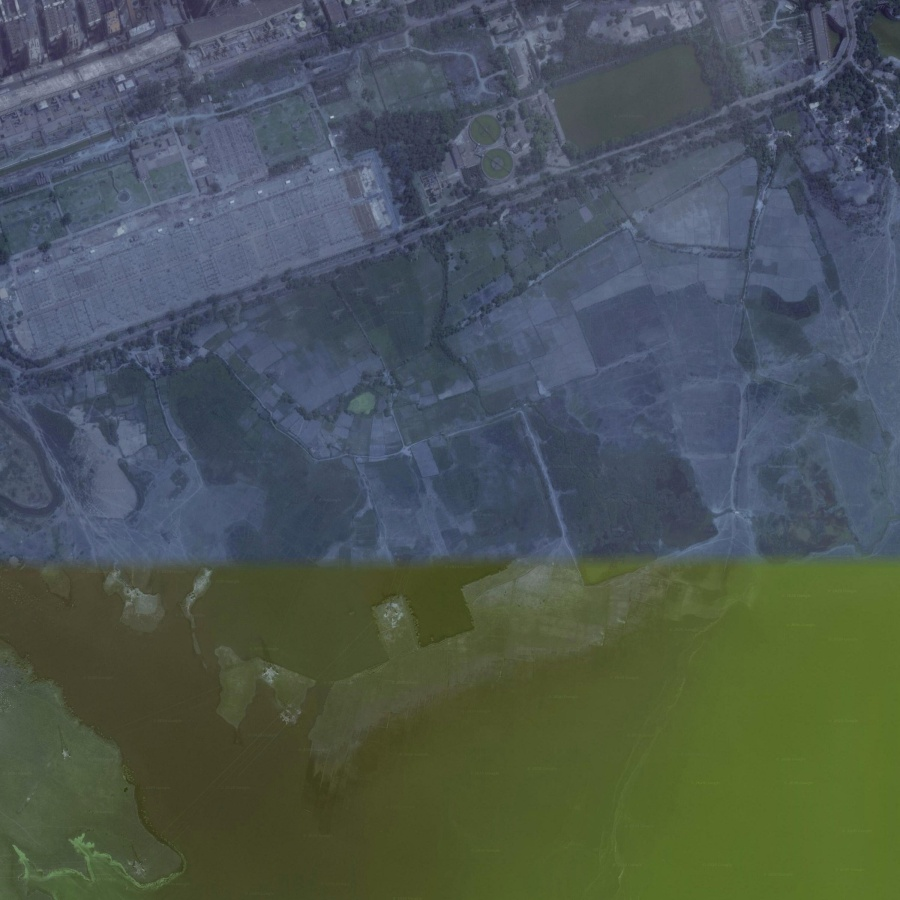PowerPlant: (539, 22, 721, 170)
